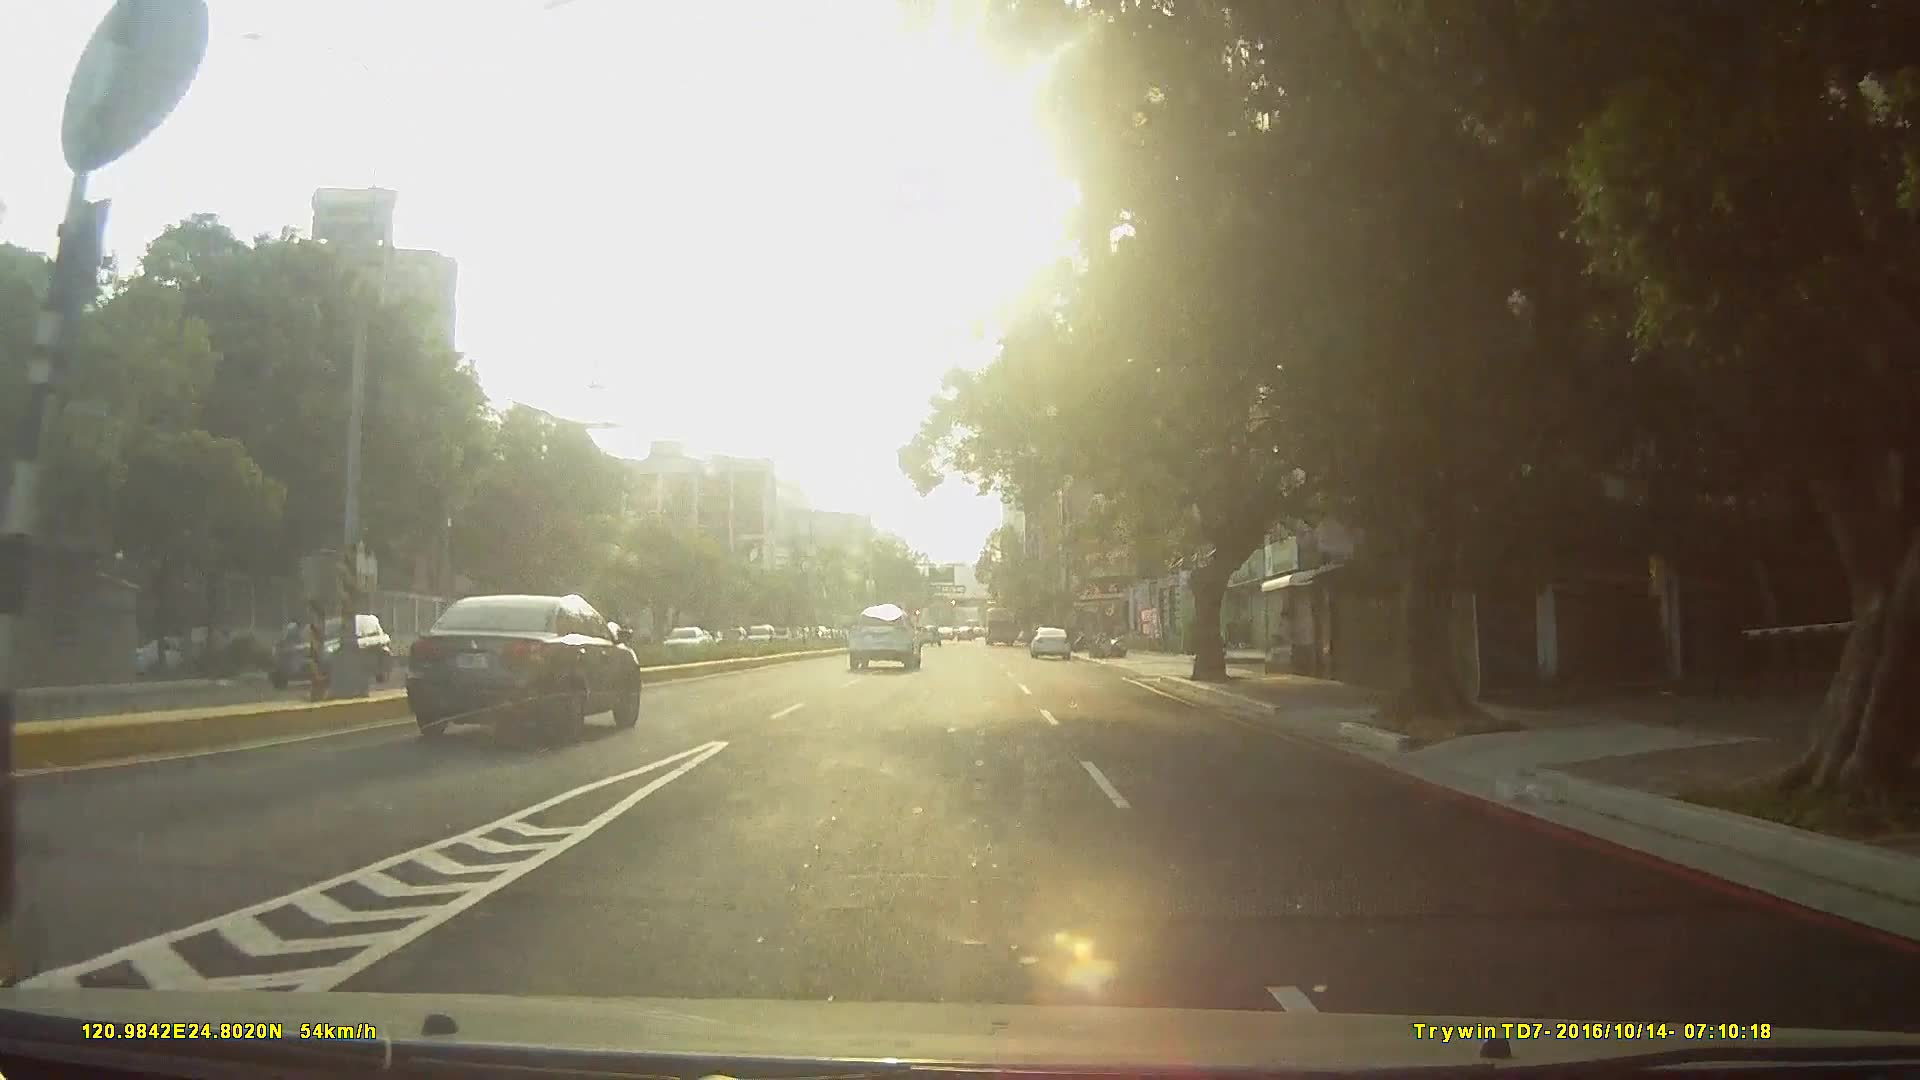pedestrian: (293, 623, 318, 675)
vehicle: (409, 589, 646, 741), (238, 616, 400, 702), (845, 605, 923, 672), (1028, 622, 1072, 660), (982, 604, 1019, 647)
